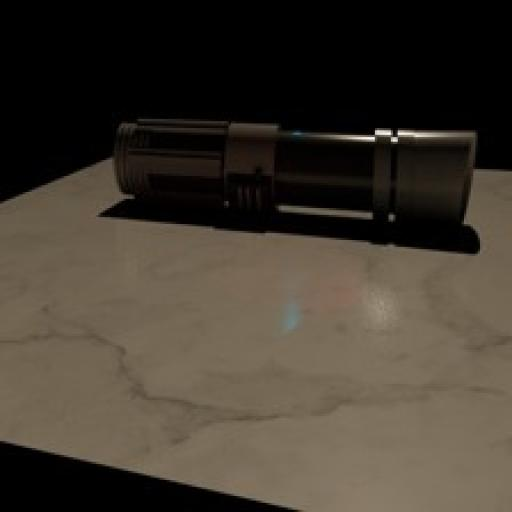lightsaber: (106, 113, 480, 232)
